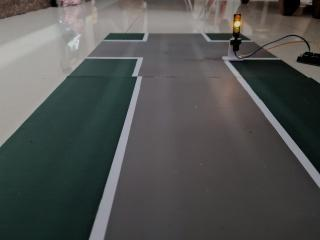yellow: (226, 8, 249, 41)
